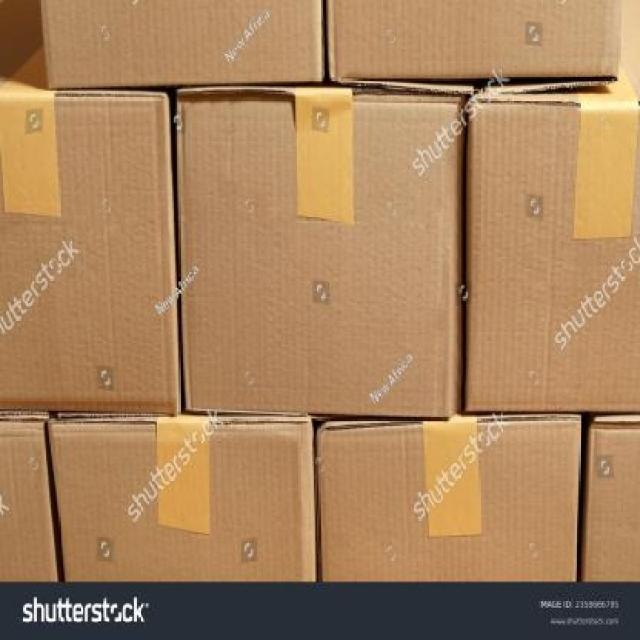BoxFace: (179, 91, 459, 417), (0, 89, 178, 409), (466, 100, 640, 414), (47, 420, 316, 586), (319, 424, 576, 586), (328, 0, 621, 82), (43, 0, 320, 85), (0, 418, 60, 579), (586, 424, 639, 586)
